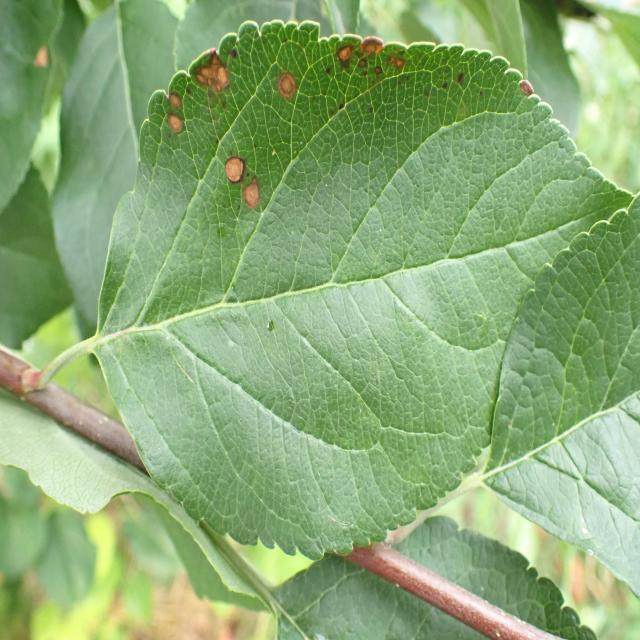Black Rot: (317, 22, 415, 89), (216, 141, 273, 221), (194, 45, 235, 108), (162, 71, 189, 148), (269, 63, 301, 120), (439, 70, 473, 104), (506, 74, 534, 104)
